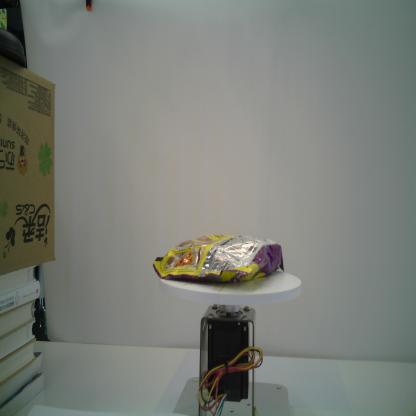Instant Noodles: (150, 229, 285, 287)
